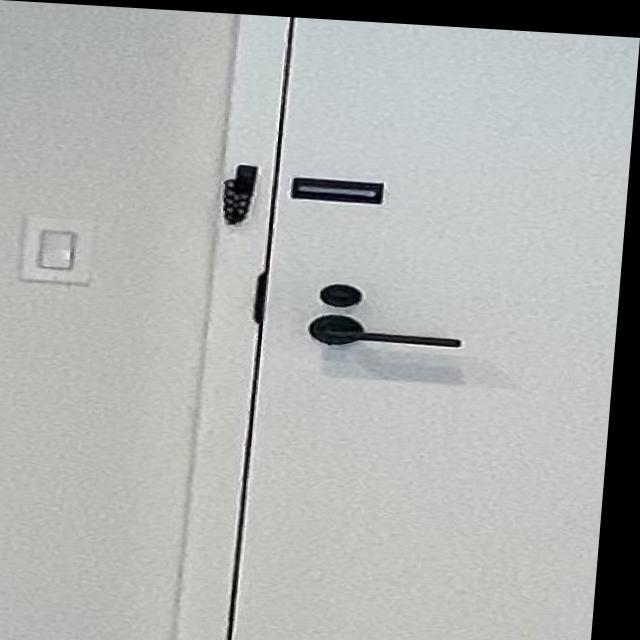door_handle: (297, 303, 487, 357)
